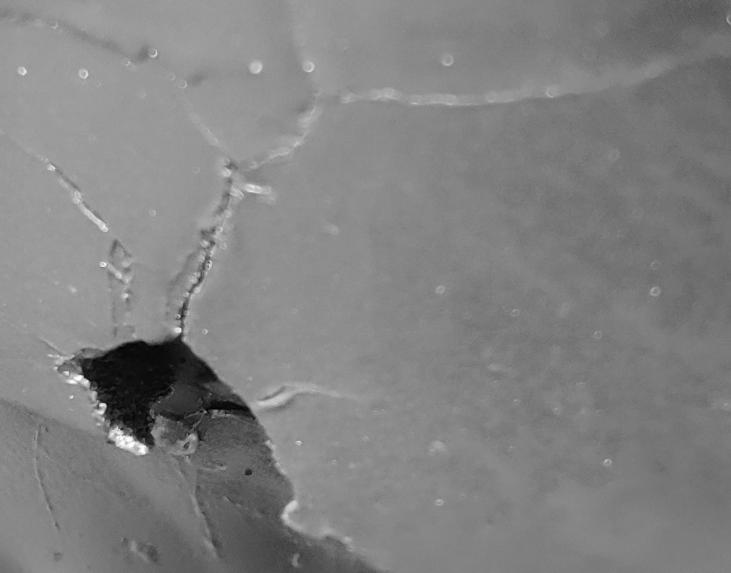crack: (1, 0, 731, 573)
